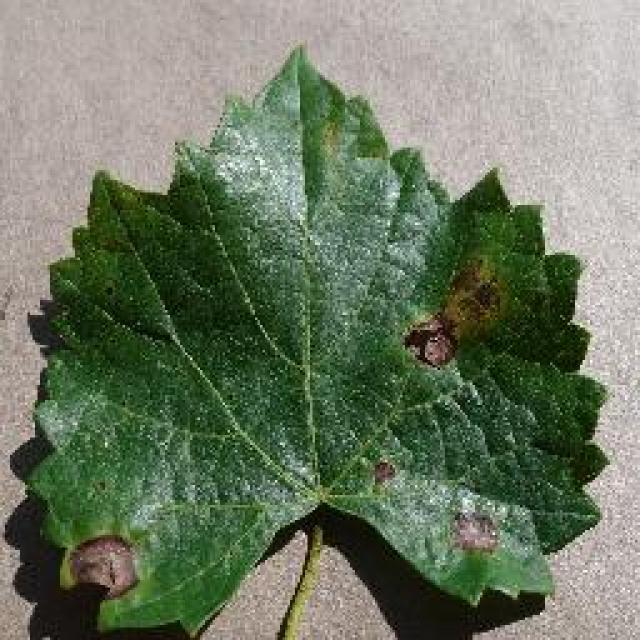Grape___Black_rot: (15, 29, 620, 638)
